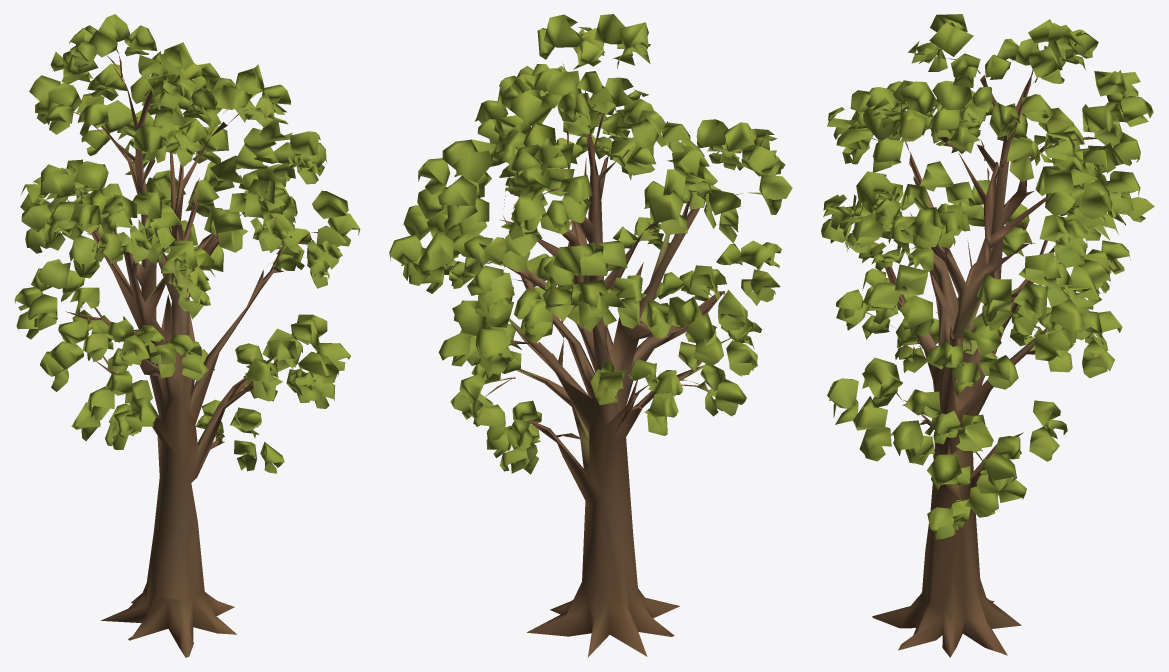
The model's file is tree-3-mid.glb.
3 renders of one model, left to right at view 1: azimuth 30°, elevation 25°; view 2: azimuth 150°, elevation 25°; view 3: azimuth 270°, elevation 25°, orthographic. The views are drawn at different scales.
Size of the model in its own units: 0.5454 by 0.9995 by 0.4966.
